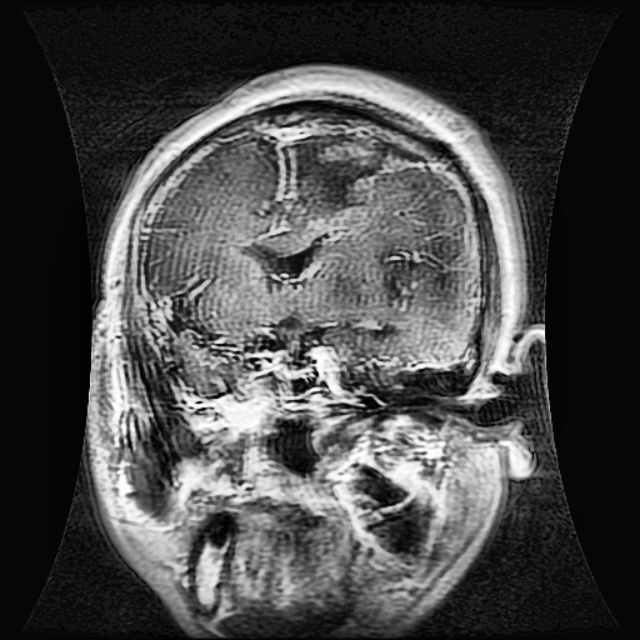Meningioma: (289, 133, 393, 225)
